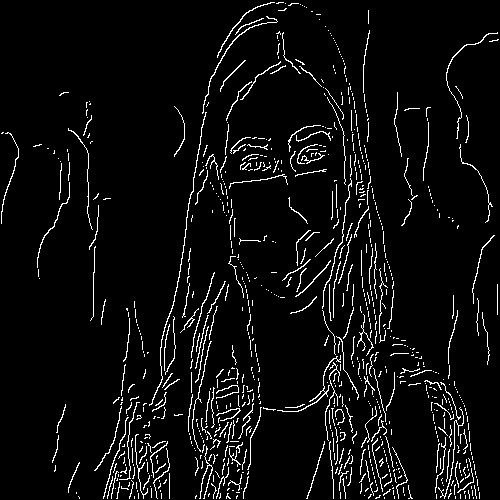mask: (213, 163, 371, 320)
